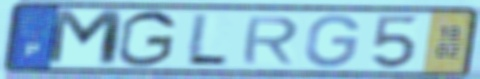5: (370, 14, 420, 70)
G: (115, 9, 180, 69), (302, 13, 363, 69)
L: (181, 12, 232, 67)
M: (43, 7, 128, 69)
R: (238, 15, 303, 66)
